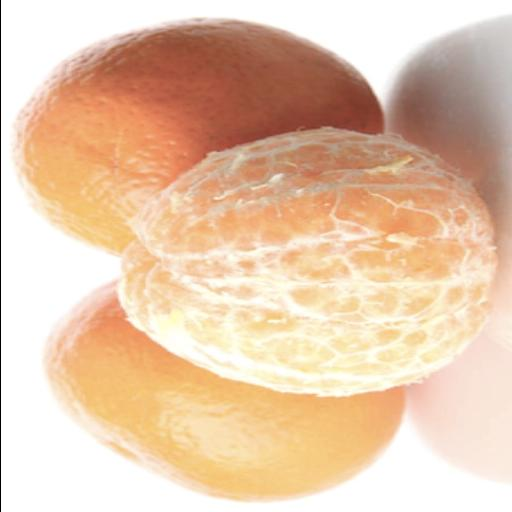orange: (119, 129, 495, 395), (14, 19, 382, 254), (45, 283, 403, 501)
